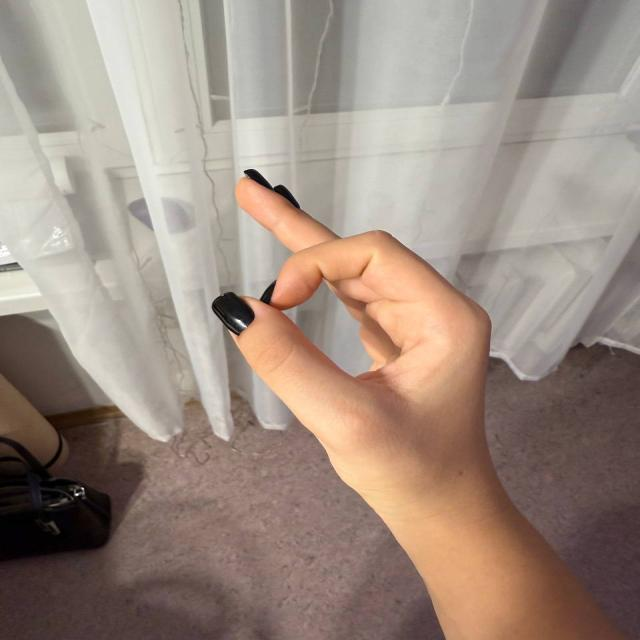o: (180, 121, 496, 462)
